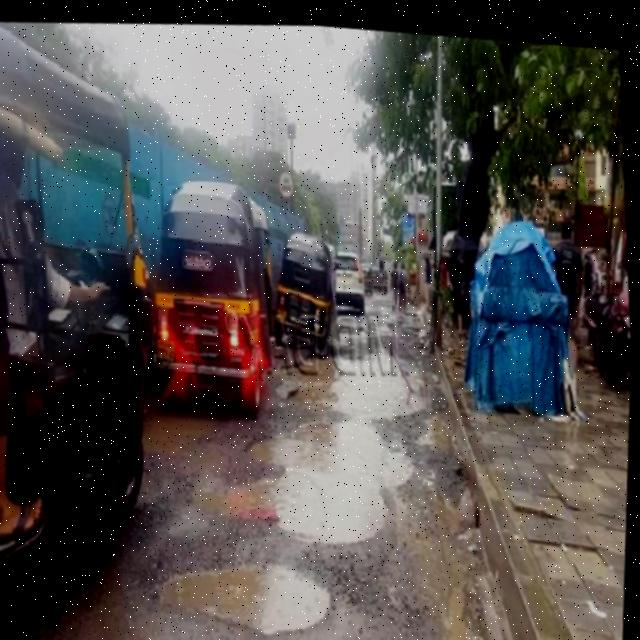Pothole: (230, 409, 411, 542), (154, 539, 340, 640), (415, 467, 491, 640), (292, 337, 426, 419), (141, 381, 223, 460)
